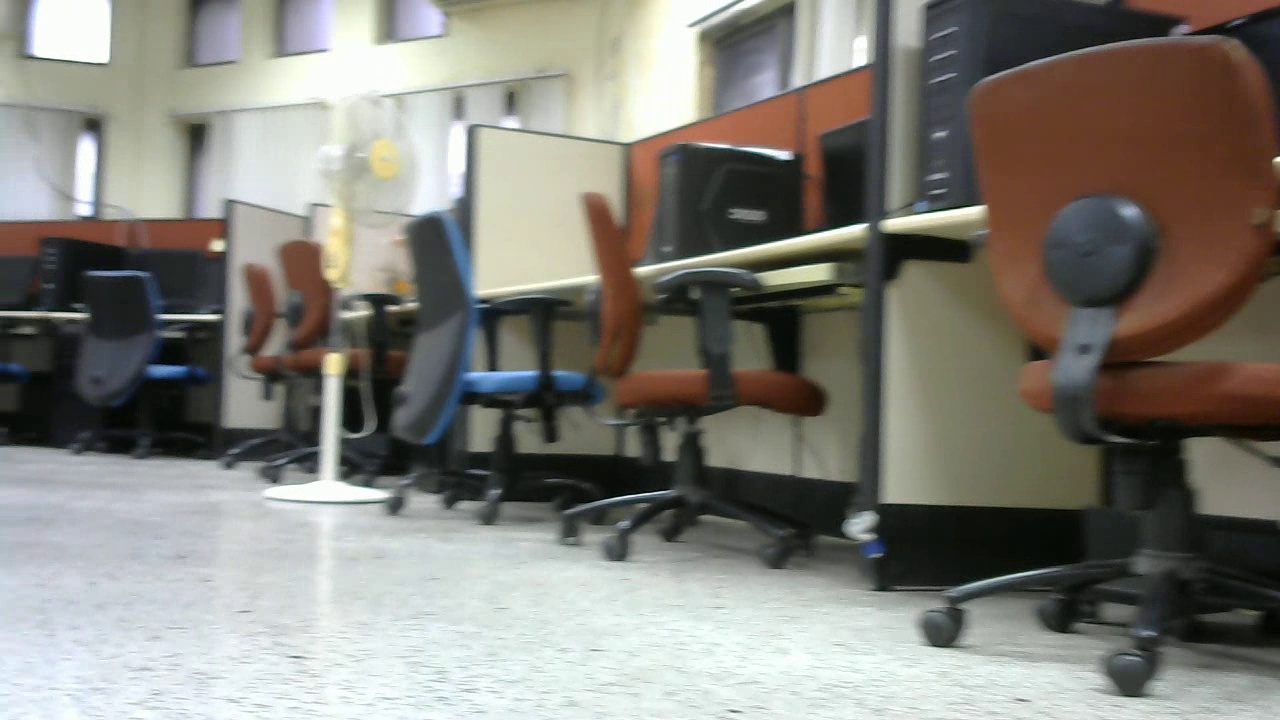chair: (922, 40, 1280, 694), (565, 190, 828, 570), (385, 211, 627, 518), (232, 243, 394, 491), (69, 269, 208, 464)
